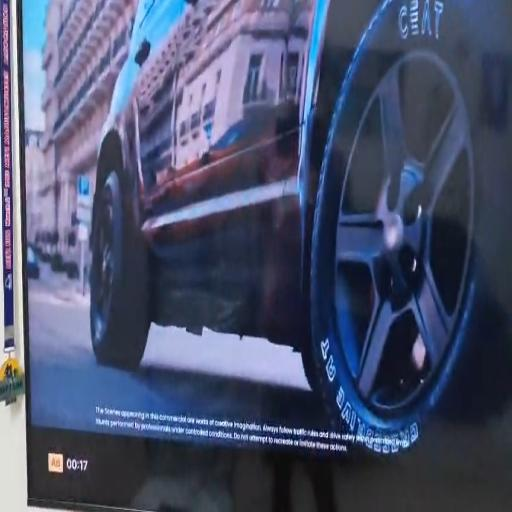ad label: (45, 451, 65, 478)
